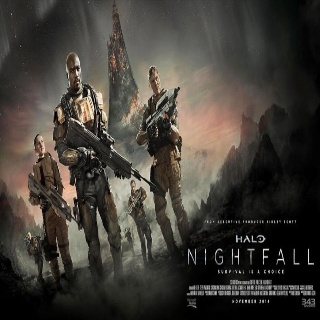shotgun: (60, 115, 157, 195), (26, 172, 83, 227), (144, 86, 182, 144)
